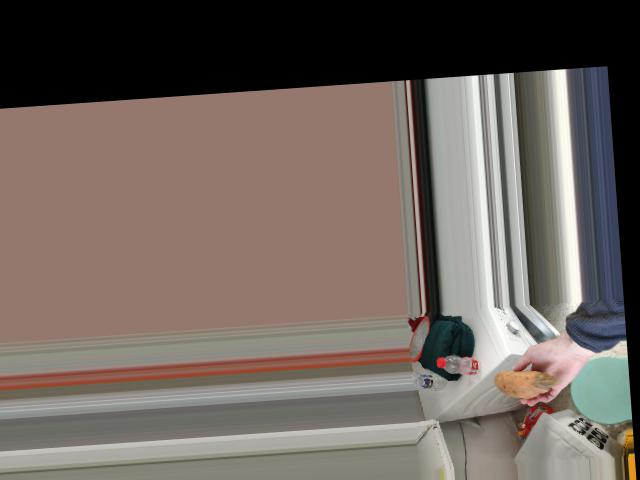sweet_potato: (480, 368, 550, 398)
